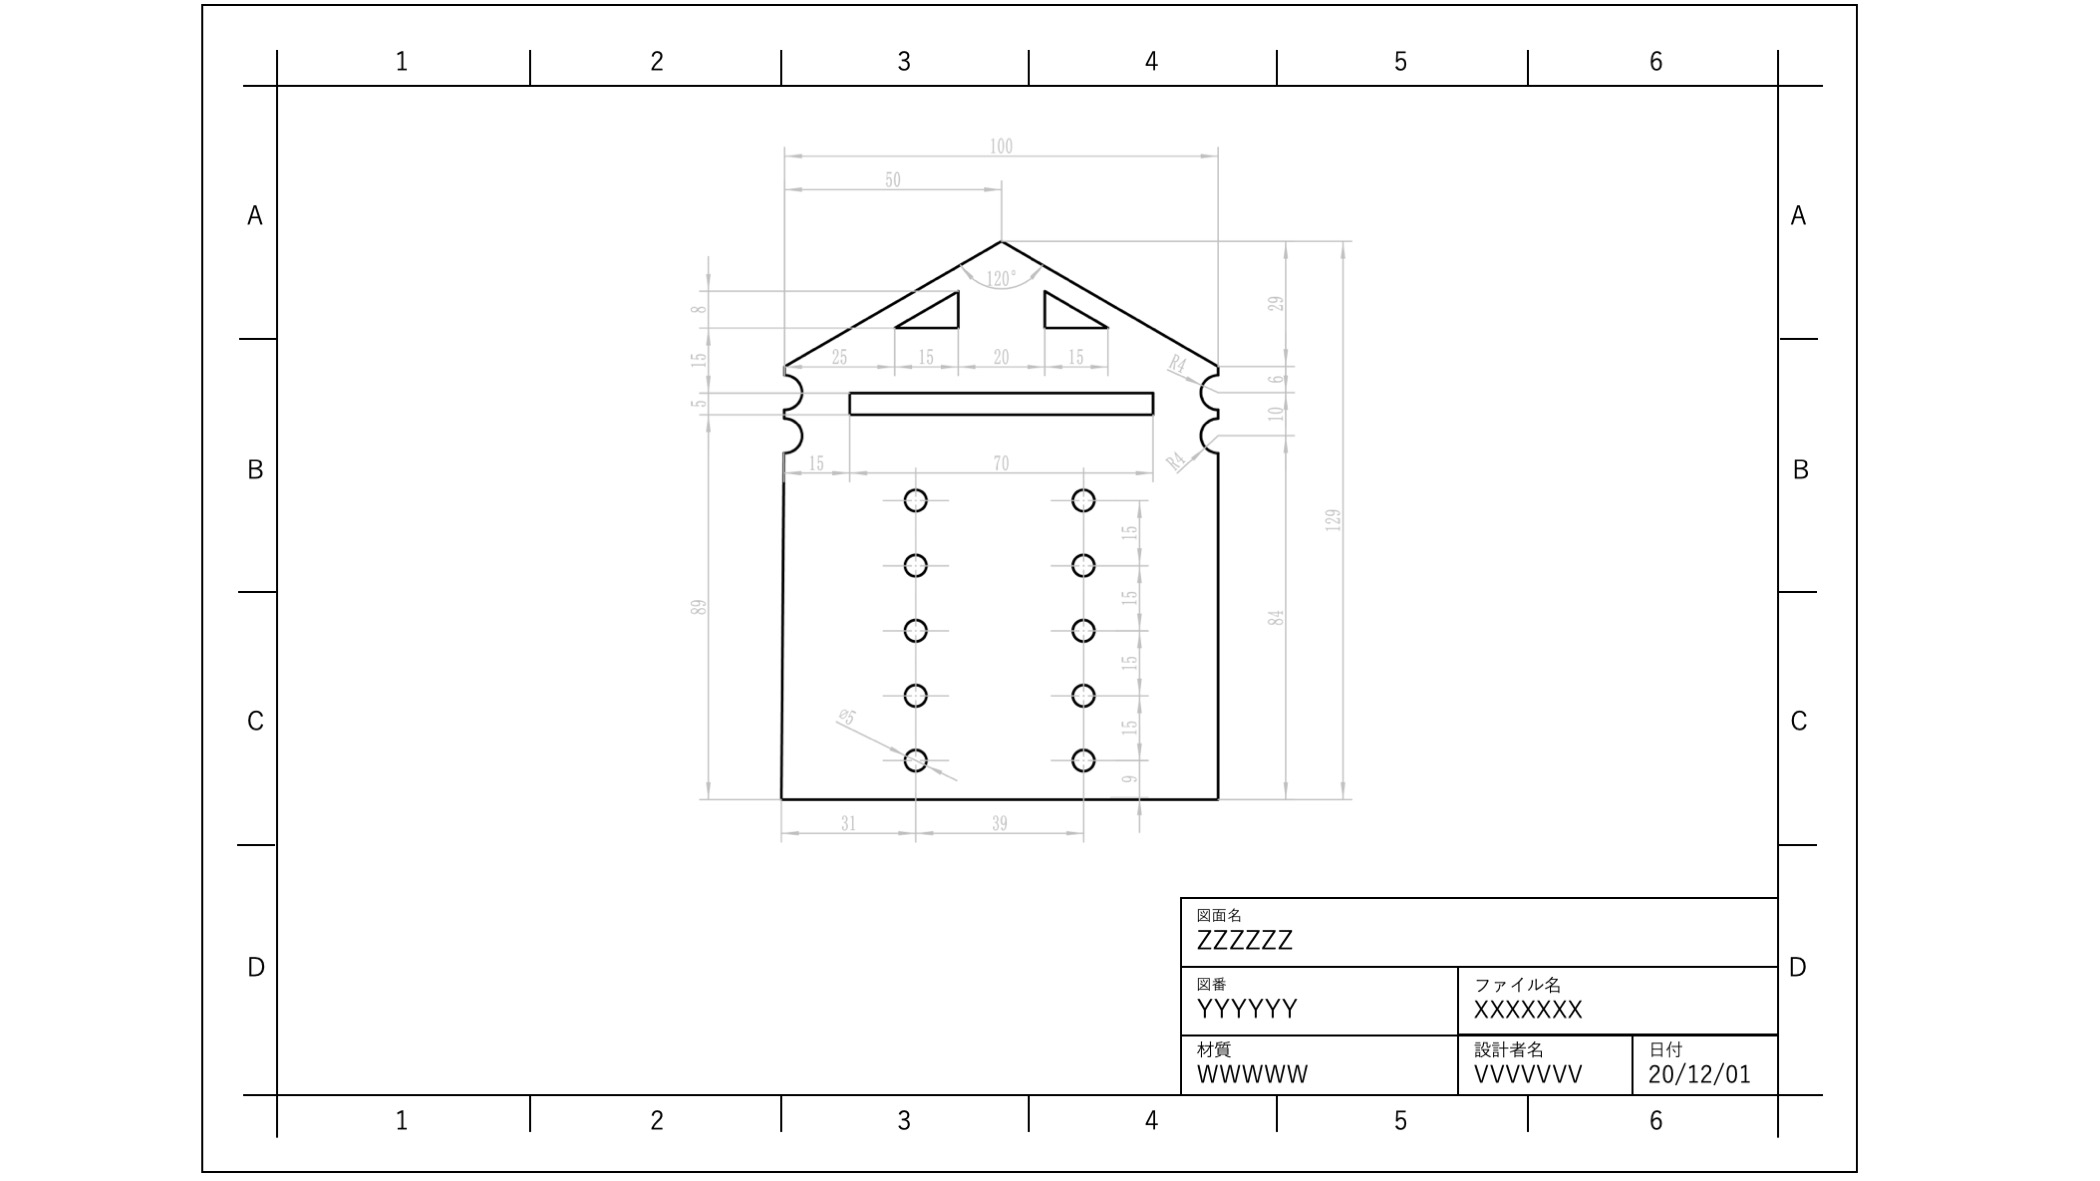circle: (896, 734, 930, 779), (1067, 609, 1103, 650), (1067, 548, 1108, 583), (901, 547, 935, 587), (899, 675, 935, 711), (901, 611, 935, 650), (899, 483, 935, 516), (1067, 482, 1100, 518), (1070, 676, 1098, 709), (1070, 746, 1095, 776)
rectangle: (842, 384, 1155, 421)
triangle: (1036, 286, 1113, 335), (893, 286, 965, 333)
